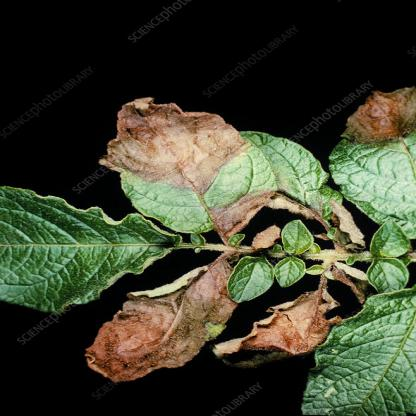potato leaf late blight: (92, 92, 281, 236), (76, 251, 245, 382), (323, 82, 415, 241), (214, 281, 343, 369)
